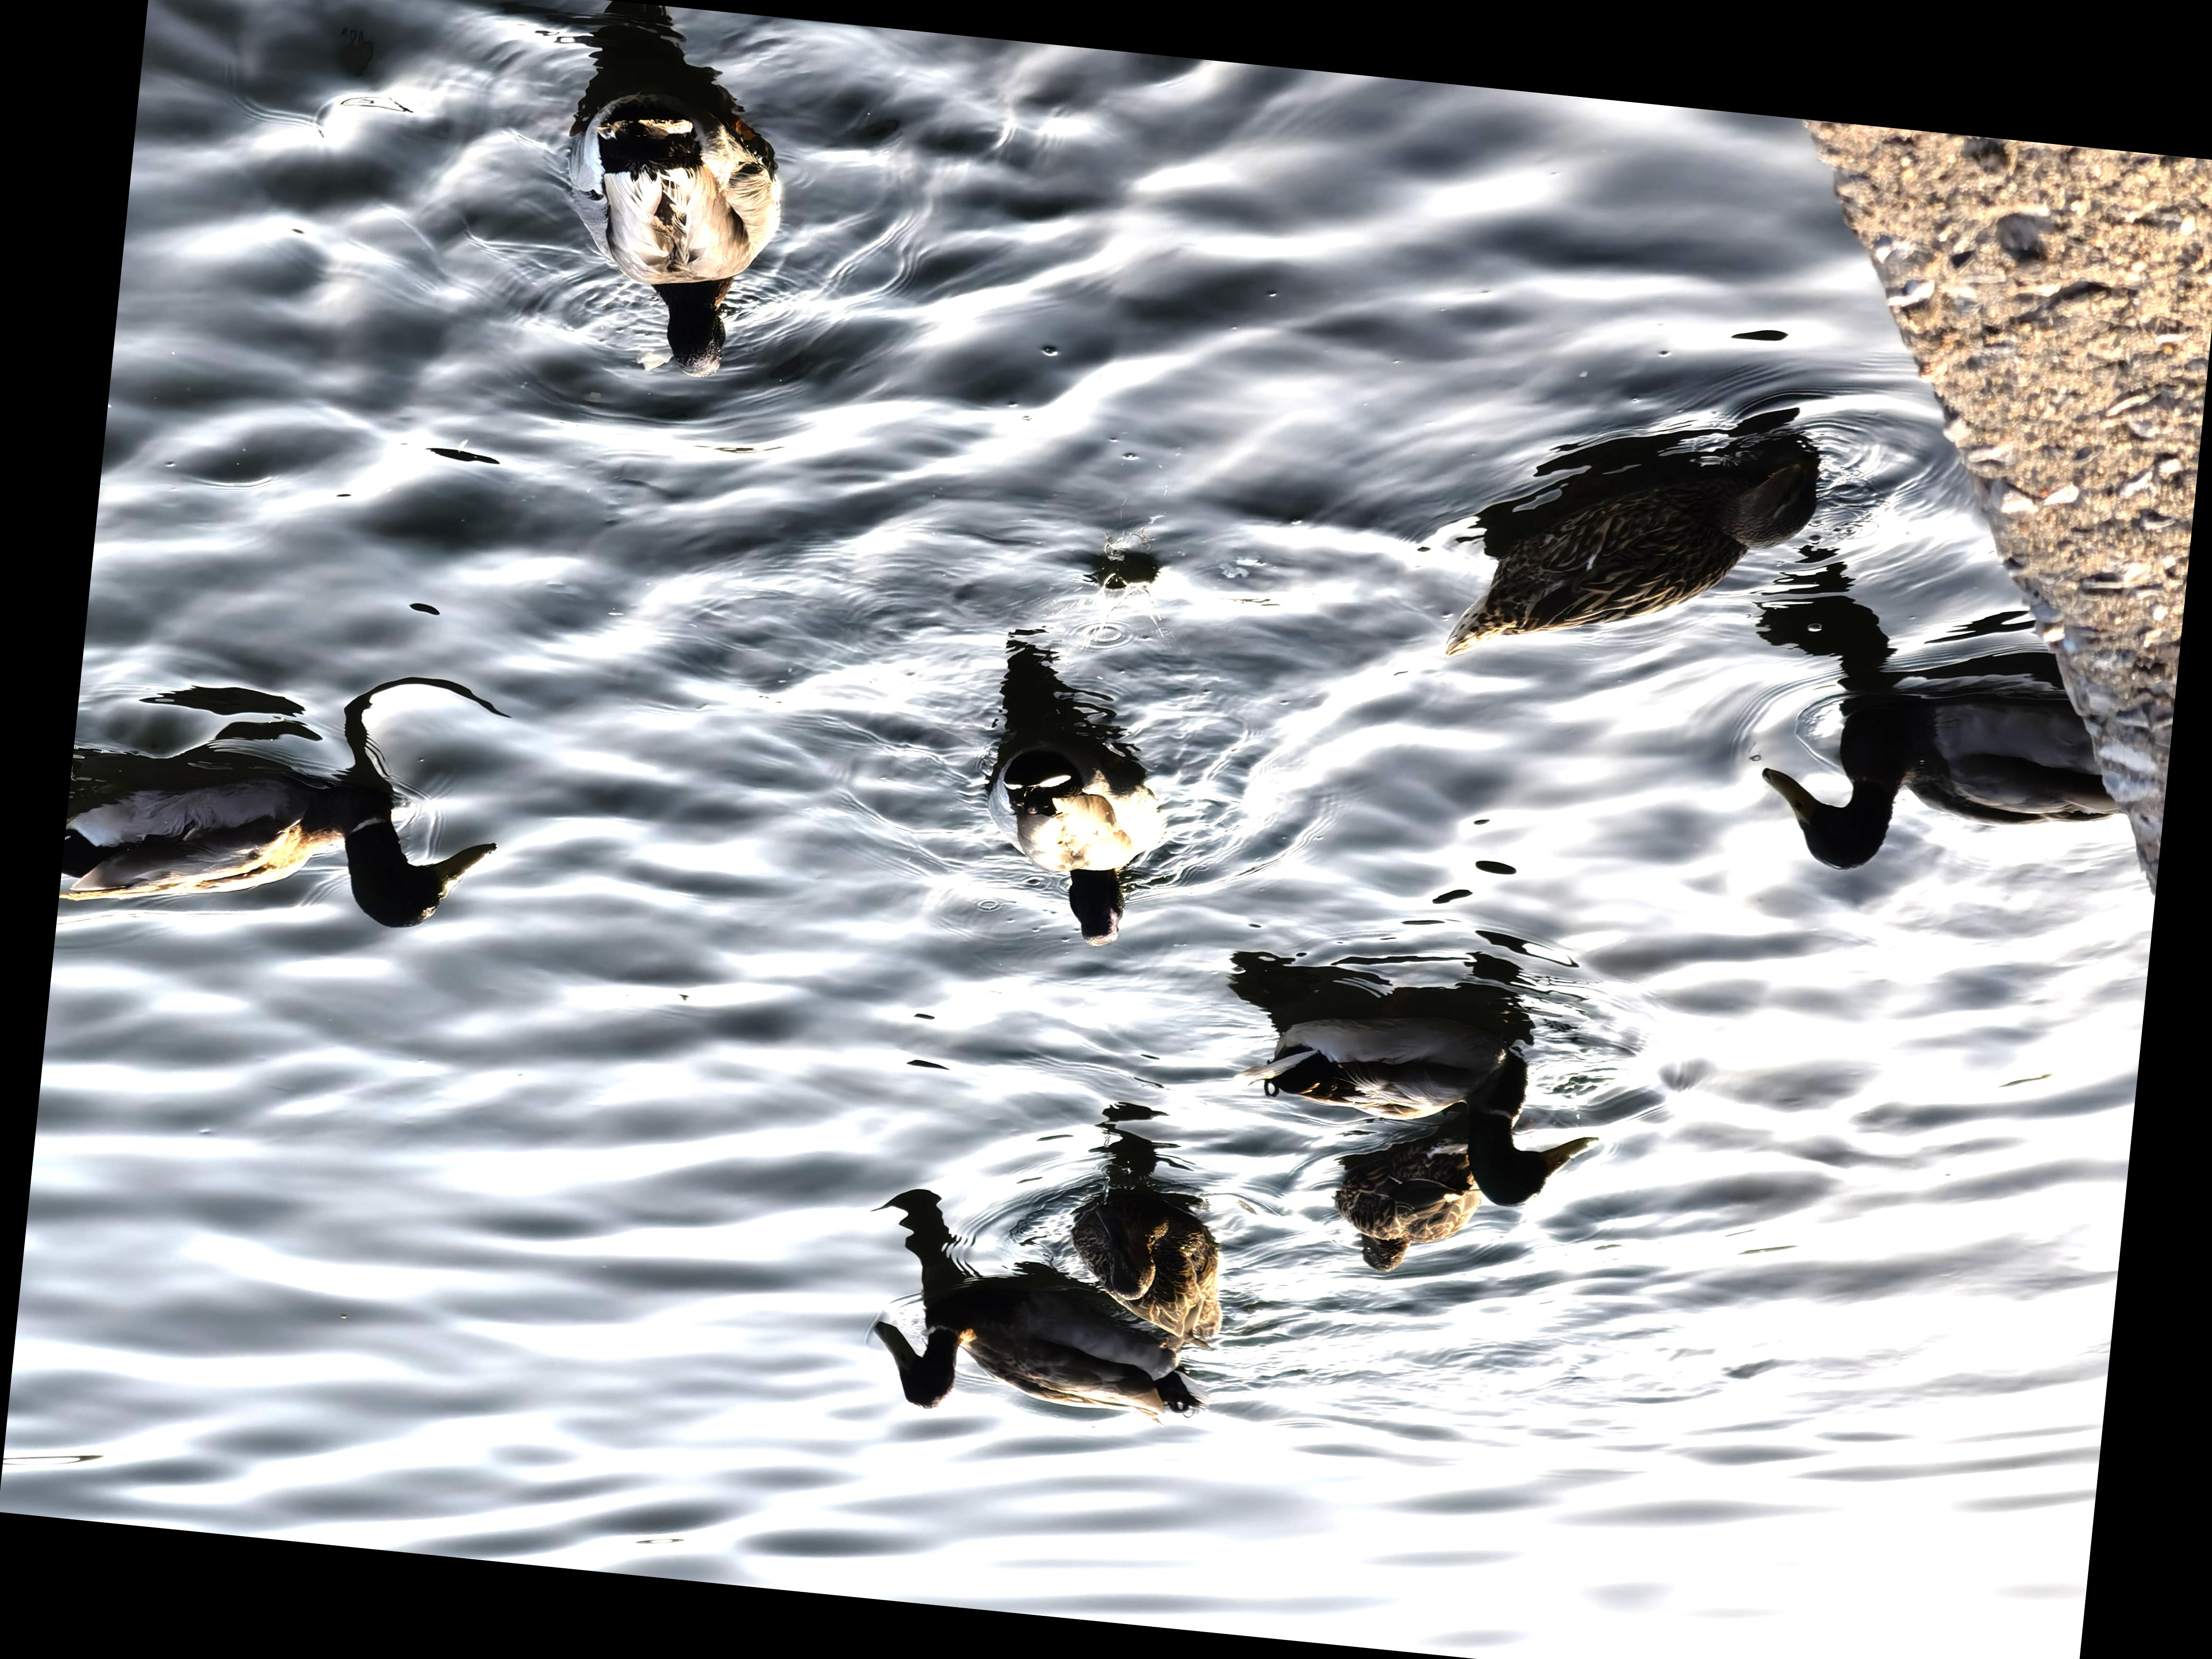duck: (1420, 392, 1846, 702), (54, 716, 514, 981), (498, 58, 810, 413), (1197, 964, 1608, 1209), (1745, 667, 2144, 901), (848, 1234, 1230, 1462), (953, 690, 1170, 958), (1040, 1161, 1252, 1356), (1299, 1138, 1493, 1276)
